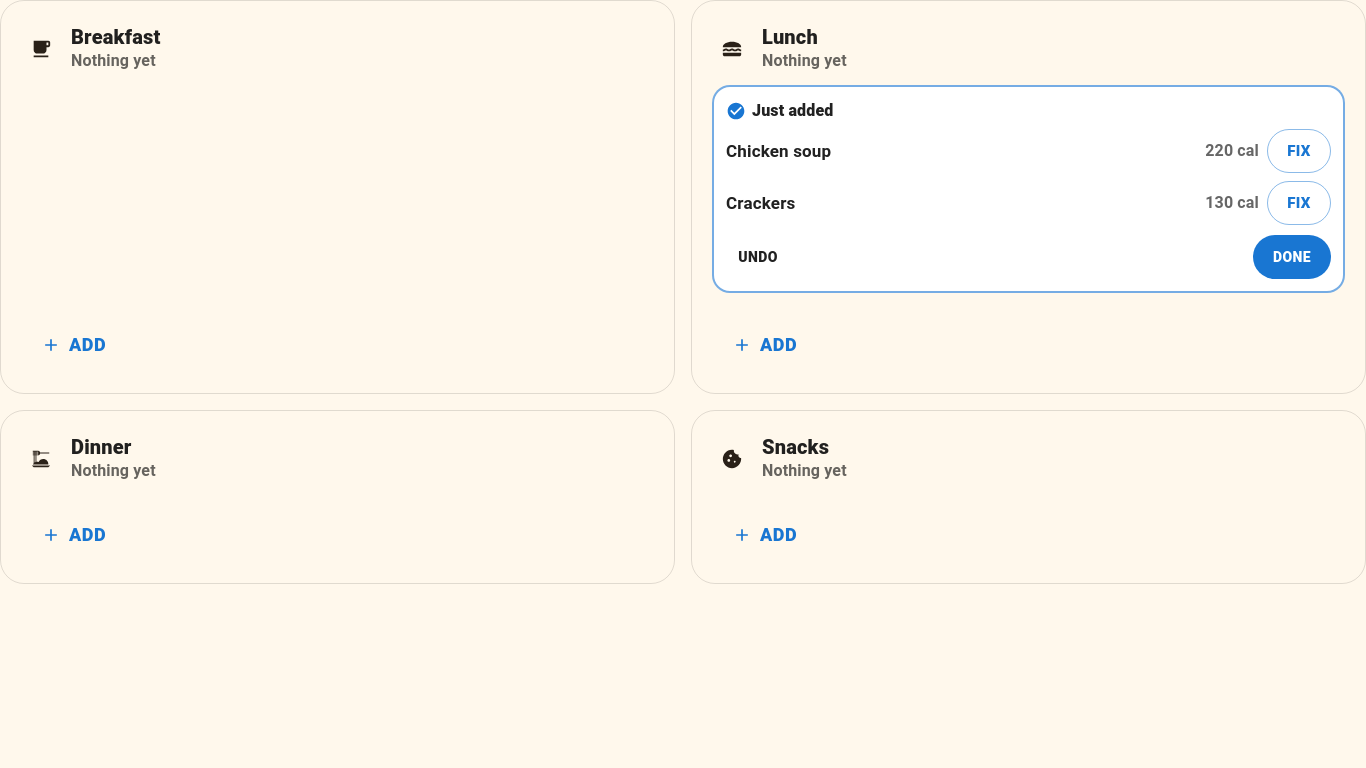
the "Just added" strip › Undo takes back exactly those entries and says "Undone ✓"
Step 1. Click the button "Undo" → (758, 257), box left=726, top=235, right=790, bottom=279
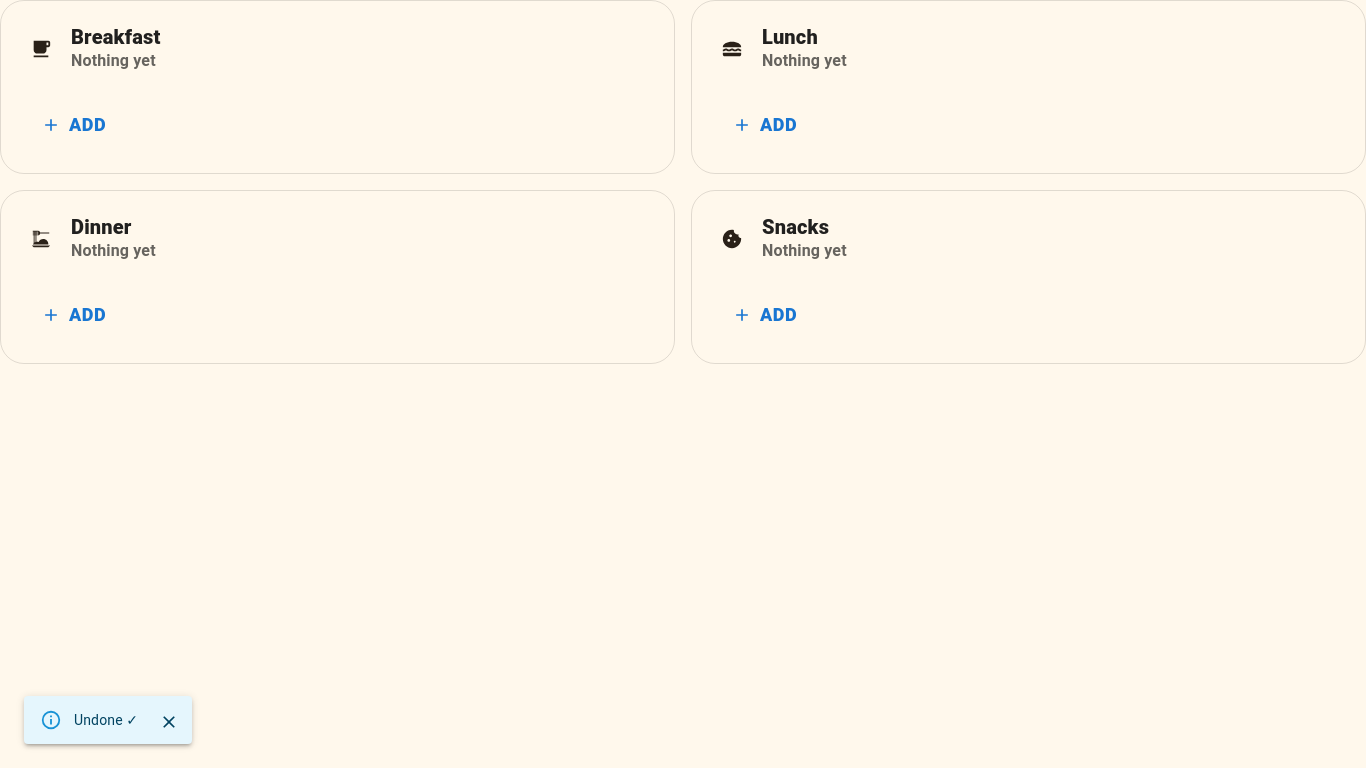
Now the text "Undone ✓" is shown, box left=74, top=712, right=138, bottom=728
Now the element with test id "just-added" is gone
